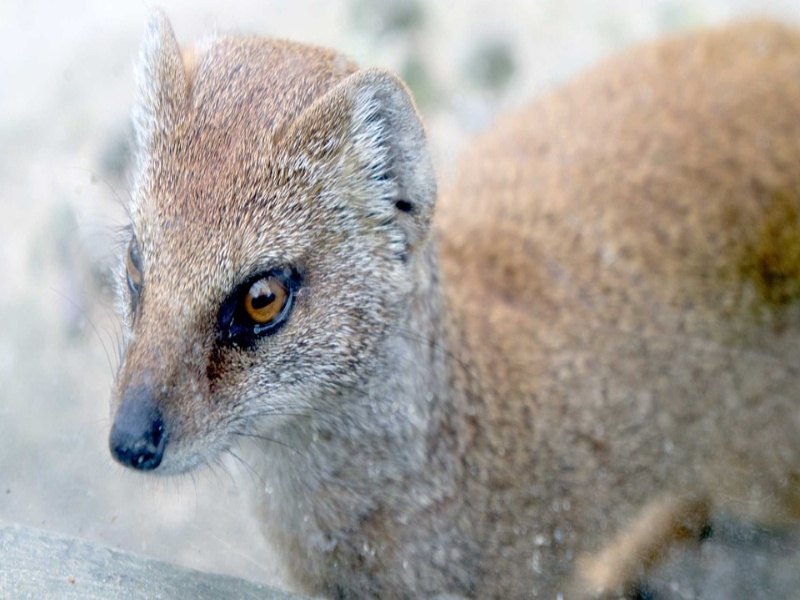minkish: (90, 28, 769, 594)
